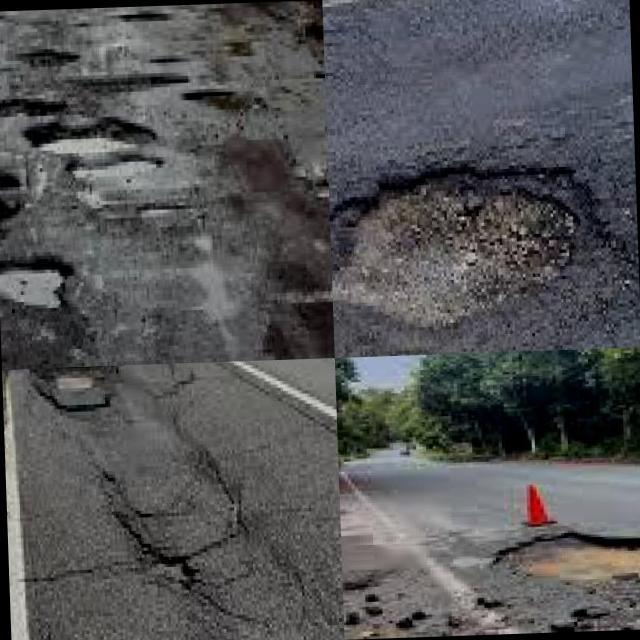Pothole: (2, 365, 257, 618), (329, 152, 613, 334), (0, 98, 157, 147), (505, 532, 640, 584), (0, 269, 62, 311), (76, 72, 190, 90), (184, 88, 266, 113), (15, 48, 78, 70)
